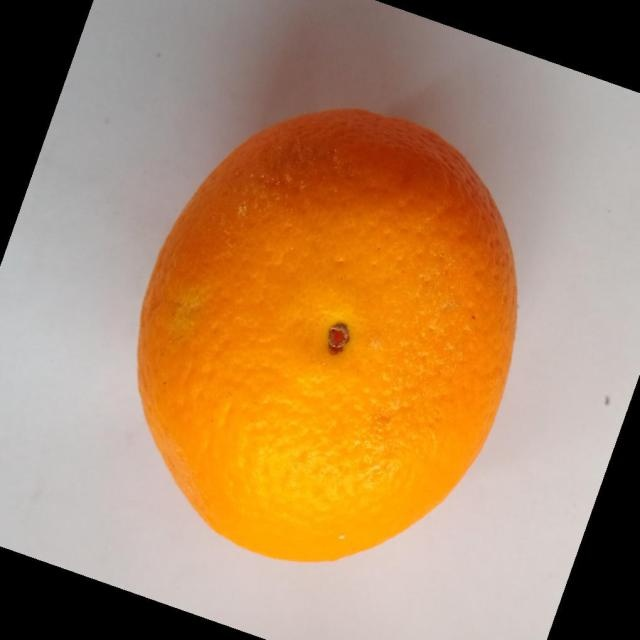agrume: (135, 106, 519, 563)
